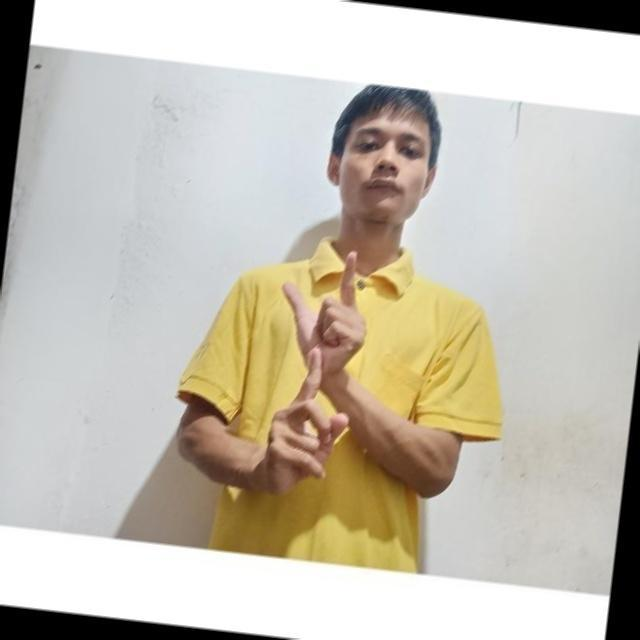Y: (265, 238, 377, 473)
